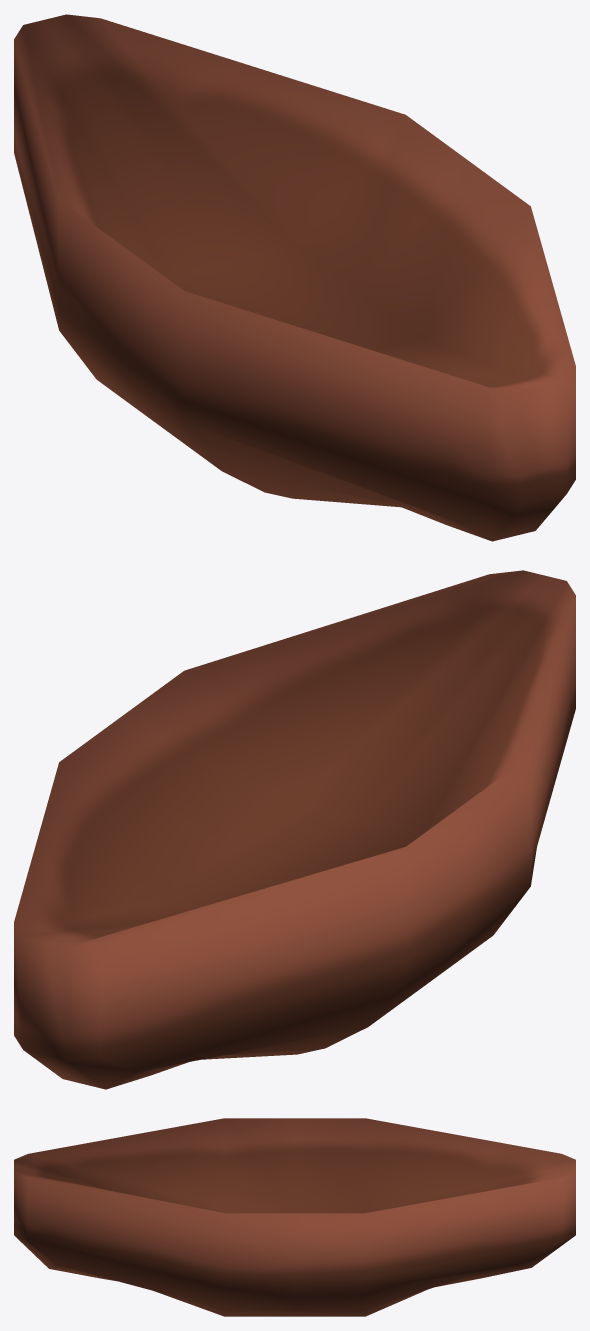
File: boat.glb
The picture shows the model from 3 angles, top to bottom: view 1: azimuth 30°, elevation 25°; view 2: azimuth 150°, elevation 25°; view 3: azimuth 270°, elevation 25°; orthographic projection. The views are drawn at different scales.
Visible parts, largest first — view 1: Cube.001; view 2: Cube.001; view 3: Cube.001.
Part boxes in pixels (<box>): Cube.001: <box>14,14,575,541</box>; Cube.001: <box>14,570,575,1089</box>; Cube.001: <box>14,1118,575,1316</box>.
Bounding box in the file's own units: 3.07 × 1.98 × 7.67.
1 material, 1 textured.
